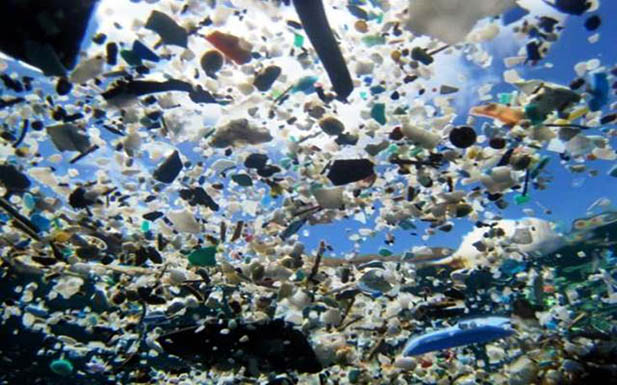litter: (149, 316, 329, 385), (236, 257, 418, 319), (397, 309, 520, 361), (194, 111, 280, 156), (162, 205, 224, 258), (320, 153, 387, 191), (145, 151, 190, 196), (449, 120, 497, 156), (194, 41, 237, 80), (44, 276, 89, 300), (34, 354, 79, 376), (257, 66, 291, 92)
